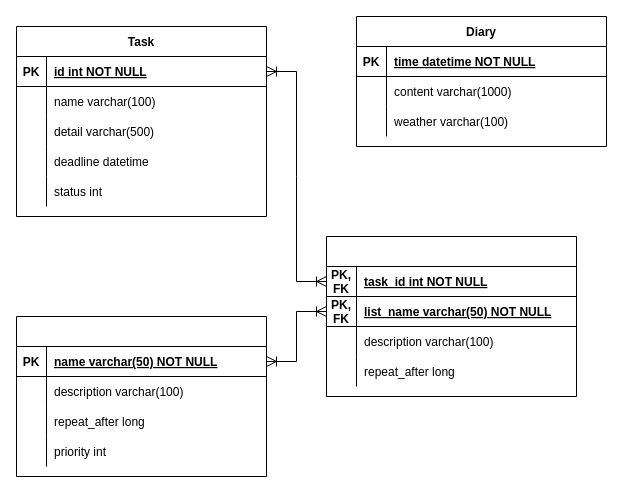
The diagram is 623 pixels wide and 493 high, and some of its shapes have lost their labels. Each missing label, with the box of its shape:
List: (16, 316, 266, 476)
ListTask: (326, 236, 576, 396)
